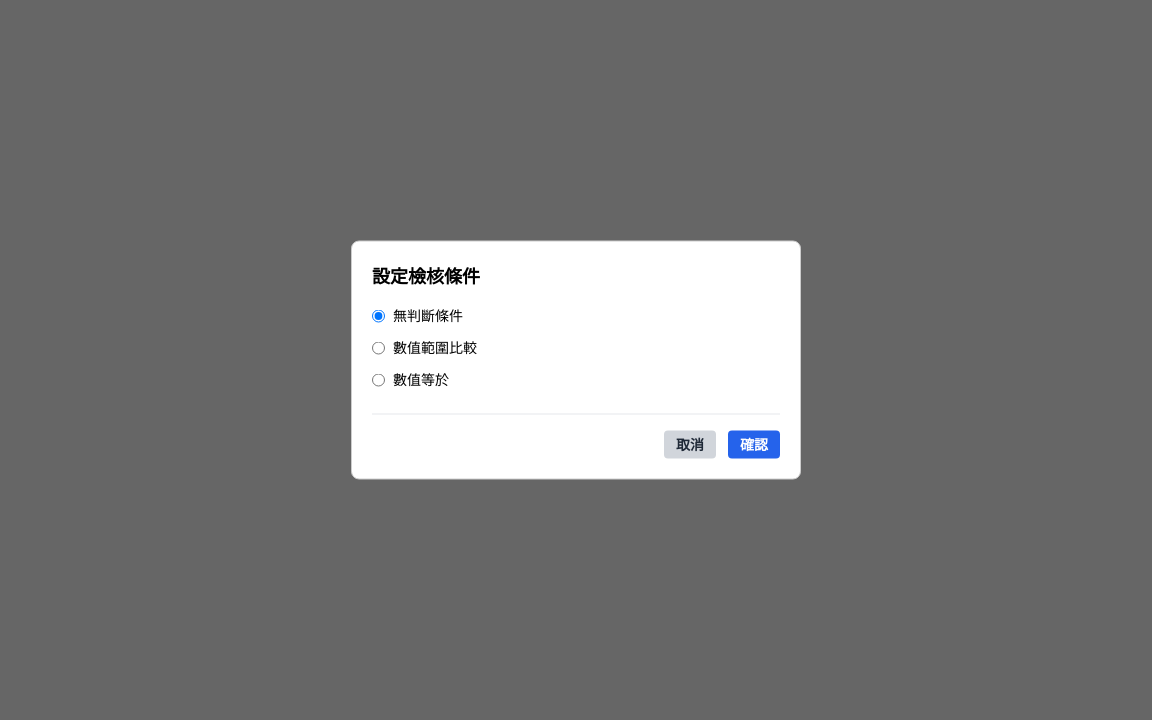
it: ValidationRuleModal Component › 選項切換 › 選擇無判斷條件時不應該顯示額外輸入欄
// 先選擇範圍，再選擇無條件
Step 1. Click the radio button labelled "數值範圍比較" → (378,348), box [372,341,385,354]
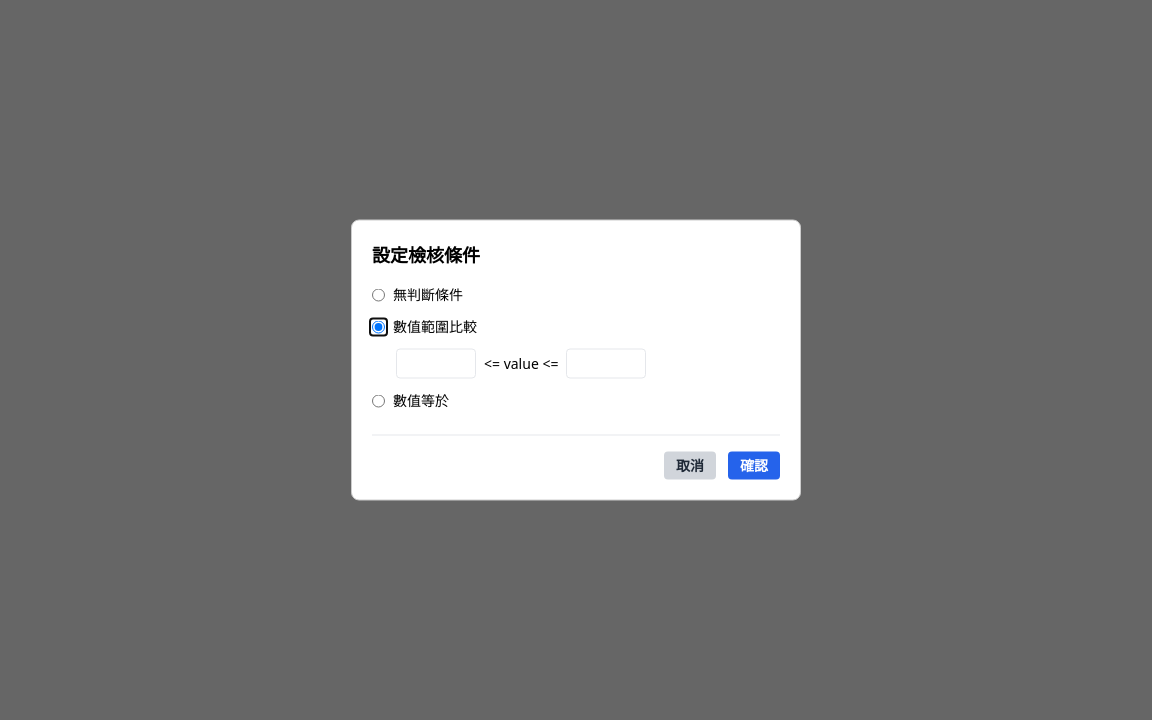
Step 2. Click the radio button labelled "無判斷條件" → (378,294), box [372,288,385,301]
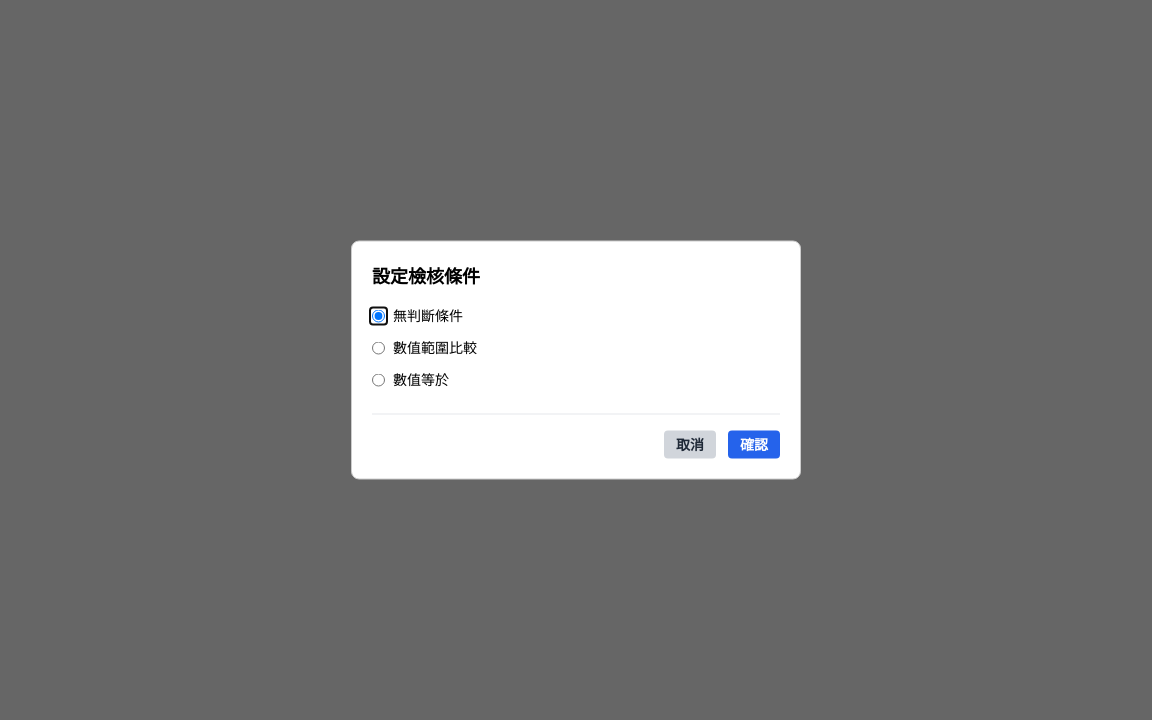
expect the radio button labelled "無判斷條件" is checked: met, box [372,309,385,322]
expect the text "<= value <=" is gone: met
